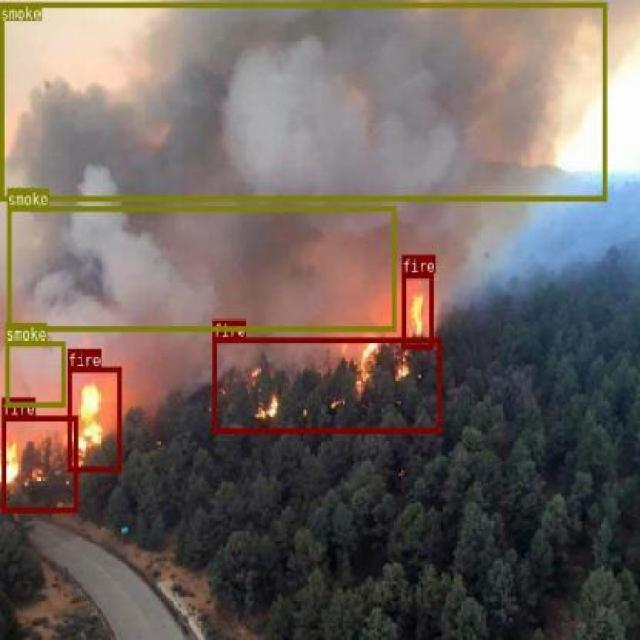Fire: (212, 337, 440, 432), (1, 414, 77, 512), (68, 366, 120, 471), (401, 272, 434, 348)
Smoke: (0, 1, 606, 201), (7, 206, 396, 332), (5, 340, 64, 406)
